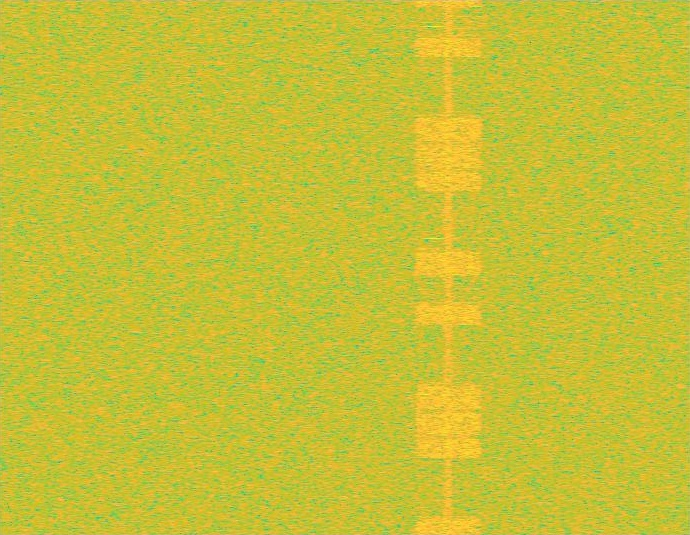DSSS: (444, 0, 453, 534)
LTE: (414, 0, 483, 534)
Radar: (427, 0, 441, 534)
